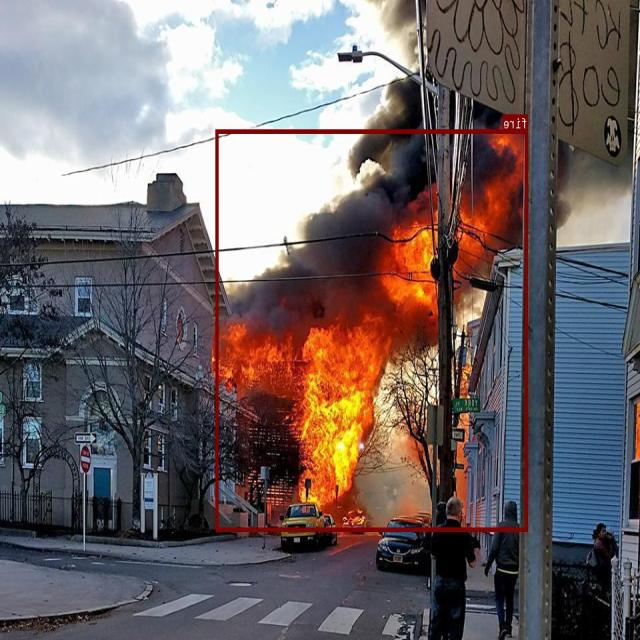fire: (216, 129, 528, 531)
